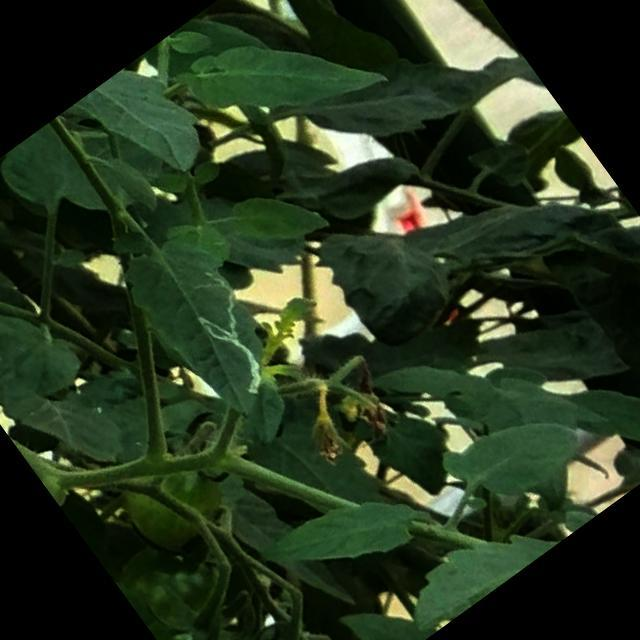Tomato healthy leaf: (169, 0, 395, 184), (249, 456, 429, 621), (433, 378, 594, 530)
Tomato target spot leaf: (104, 217, 308, 443)
